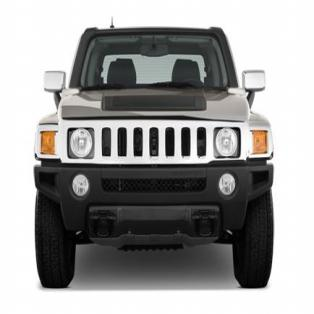Auto: (30, 14, 276, 290)
